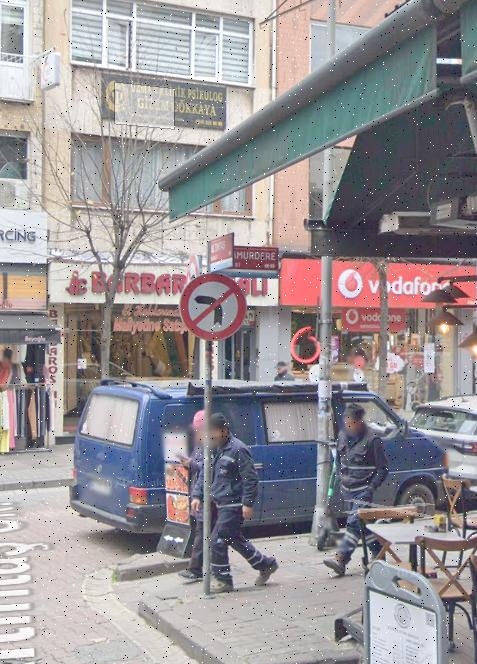leftturnsareforbidden: (183, 275, 242, 337)
